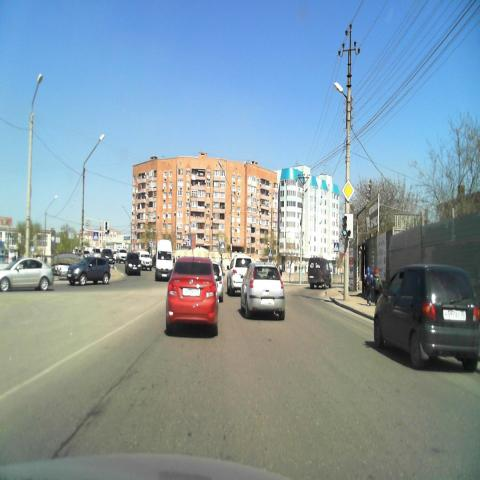2_1: (341, 179, 355, 202)
5_15_2_2: (186, 239, 191, 246)
5_19_1: (333, 242, 338, 252), (93, 231, 98, 240), (221, 241, 225, 249), (268, 250, 272, 257)
